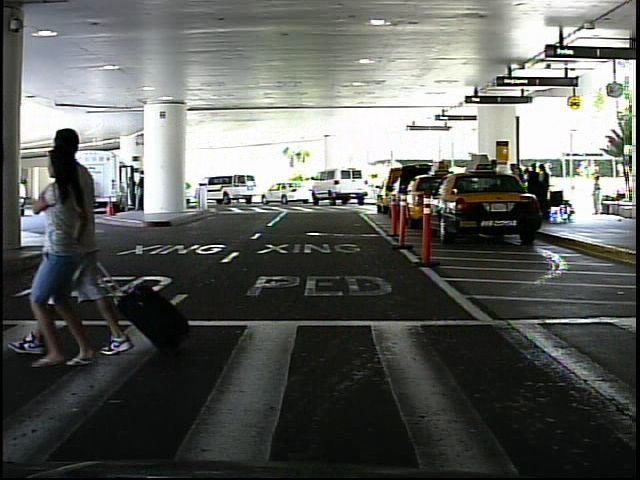person: (45, 140, 120, 378), (48, 114, 115, 361), (81, 170, 99, 220), (588, 172, 607, 218)
